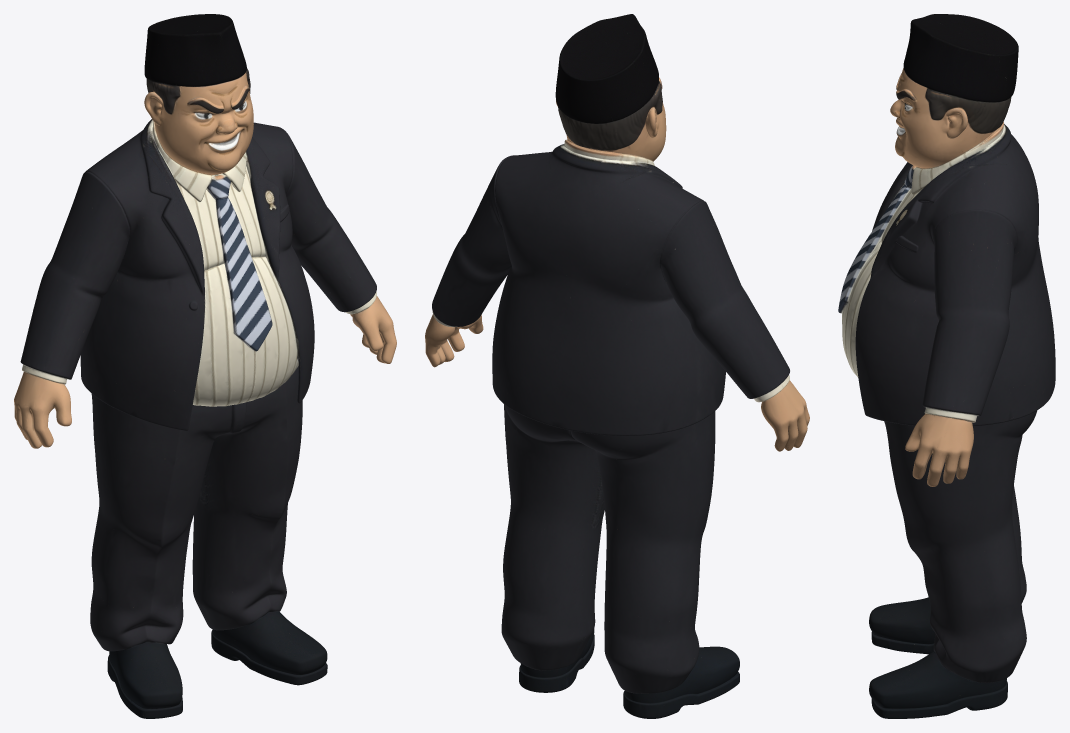
File: Mr_Gas_Oke_Original.glb
3 renders of one model, left to right at view 1: azimuth 30°, elevation 25°; view 2: azimuth 150°, elevation 25°; view 3: azimuth 270°, elevation 25°, orthographic.
Parts seen in each view (by area): view 1: Mr_Gas_Oke_Meshy; view 2: Mr_Gas_Oke_Meshy; view 3: Mr_Gas_Oke_Meshy.
Boxes of the visible parts, x1,y1,x2,y2 form: Mr_Gas_Oke_Meshy: (14,14,396,718); Mr_Gas_Oke_Meshy: (425,14,809,718); Mr_Gas_Oke_Meshy: (838,14,1055,718).
Size of the model in its own units: 1 by 1.7 by 0.5111.
1 material, 1 textured.
